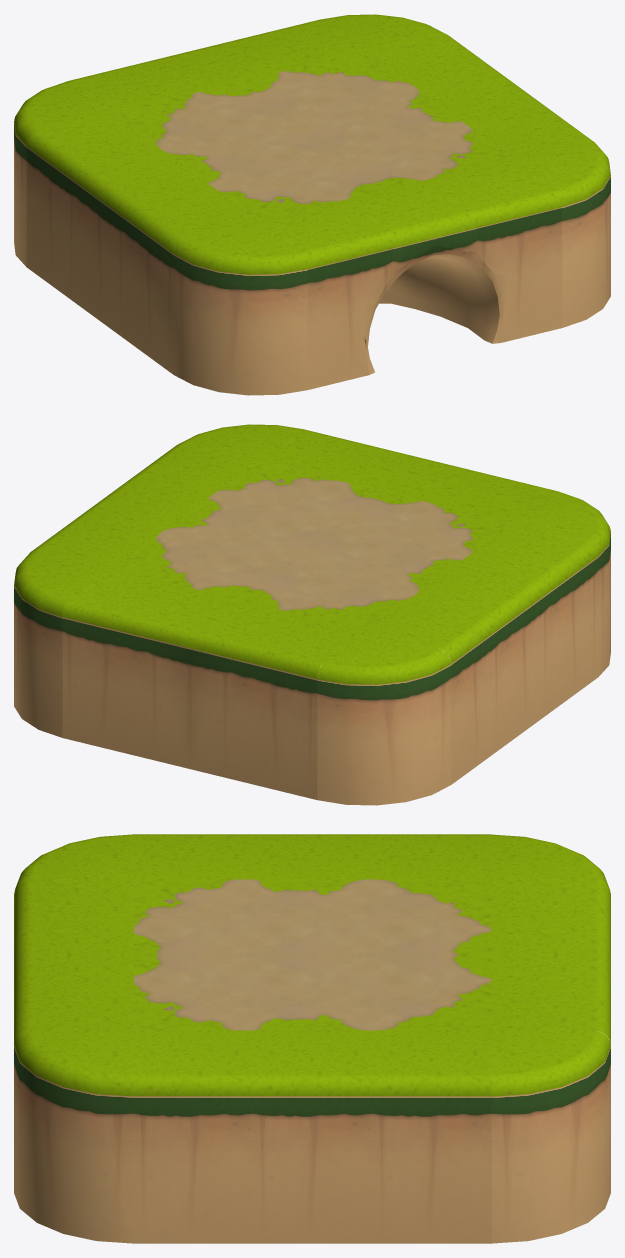
The model's file is Door1023_8.fbx.
3 renders of one model, top to bottom at view 1: azimuth 30°, elevation 25°; view 2: azimuth 150°, elevation 25°; view 3: azimuth 270°, elevation 25°, orthographic. The views are drawn at different scales.
Visible parts, largest first — view 1: TM_Grass_BasicCube01.328, Object001, Object002, Object003; view 2: Object001, TM_Grass_BasicCube01.328, Object002; view 3: TM_Grass_BasicCube01.328, Object001, Object002.
Part boxes in pixels (box(x1,y1,x2,y2)): TM_Grass_BasicCube01.328: box(14, 14, 610, 274); Object001: box(14, 123, 610, 395); Object002: box(112, 51, 512, 220); Object003: box(370, 254, 499, 366); Object001: box(14, 533, 610, 805); TM_Grass_BasicCube01.328: box(14, 424, 610, 684); Object002: box(112, 461, 512, 630); TM_Grass_BasicCube01.328: box(14, 834, 610, 1096); Object001: box(14, 1046, 610, 1243); Object002: box(133, 879, 491, 1030).
Bounding box in the file's own units: 20 × 6 × 20.
